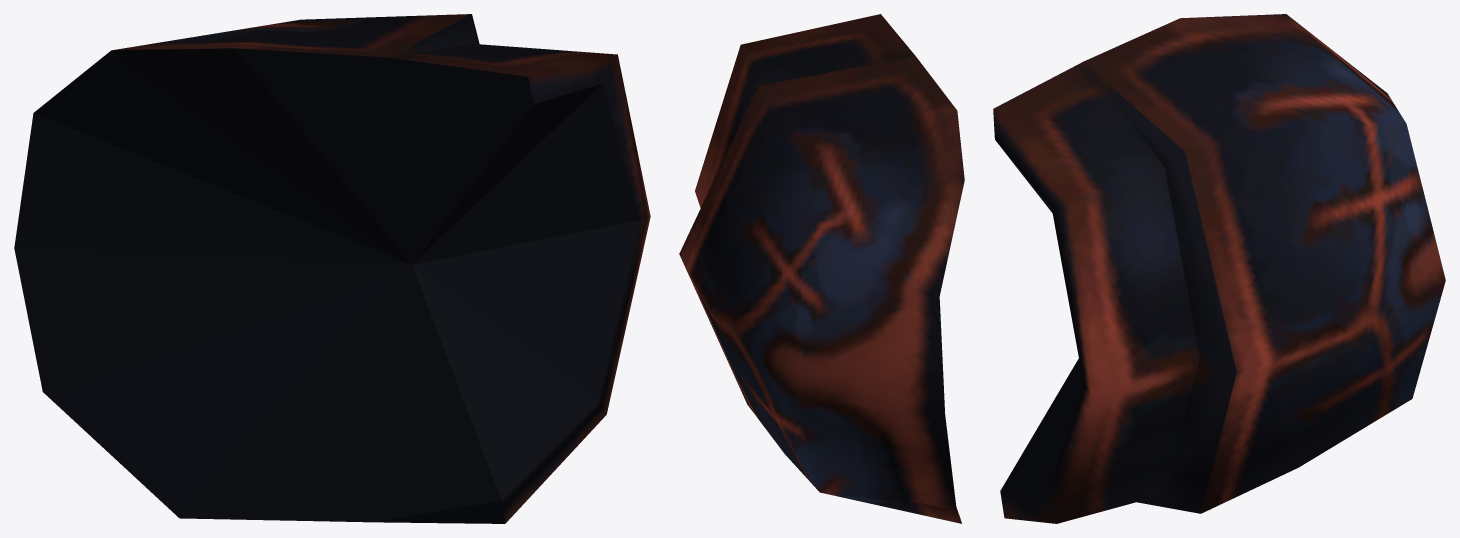
Rendered from shoulder_r.fbx.
3 views of the same model, side by side, from view 1: azimuth 30°, elevation 25°; view 2: azimuth 150°, elevation 25°; view 3: azimuth 270°, elevation 25° (orthographic). The views are drawn at different scales.
Visible parts, largest first — view 1: Standard_18; view 2: Standard_18; view 3: Standard_18.
Part boxes in pixels (box(x1,y1,x2,y2)): Standard_18: box(14, 14, 650, 523); Standard_18: box(679, 14, 964, 523); Standard_18: box(993, 14, 1445, 523).
Size of the model in its own units: 0.2627 by 0.2579 by 0.2343.
